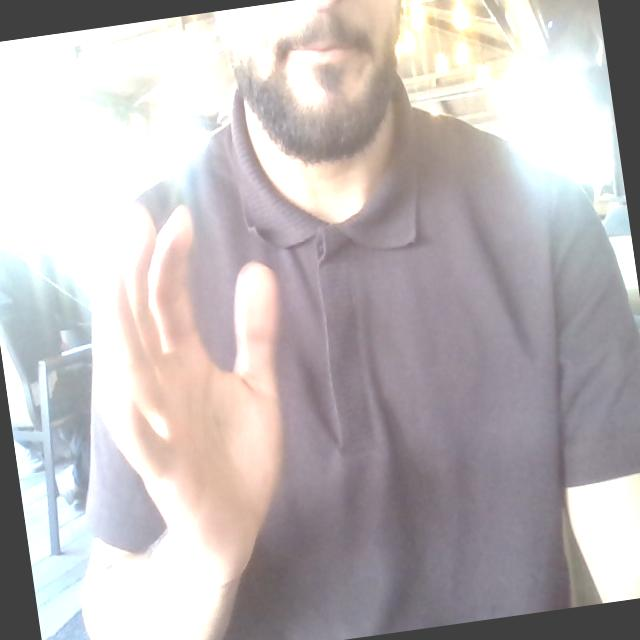Hand: (97, 208, 282, 582)
